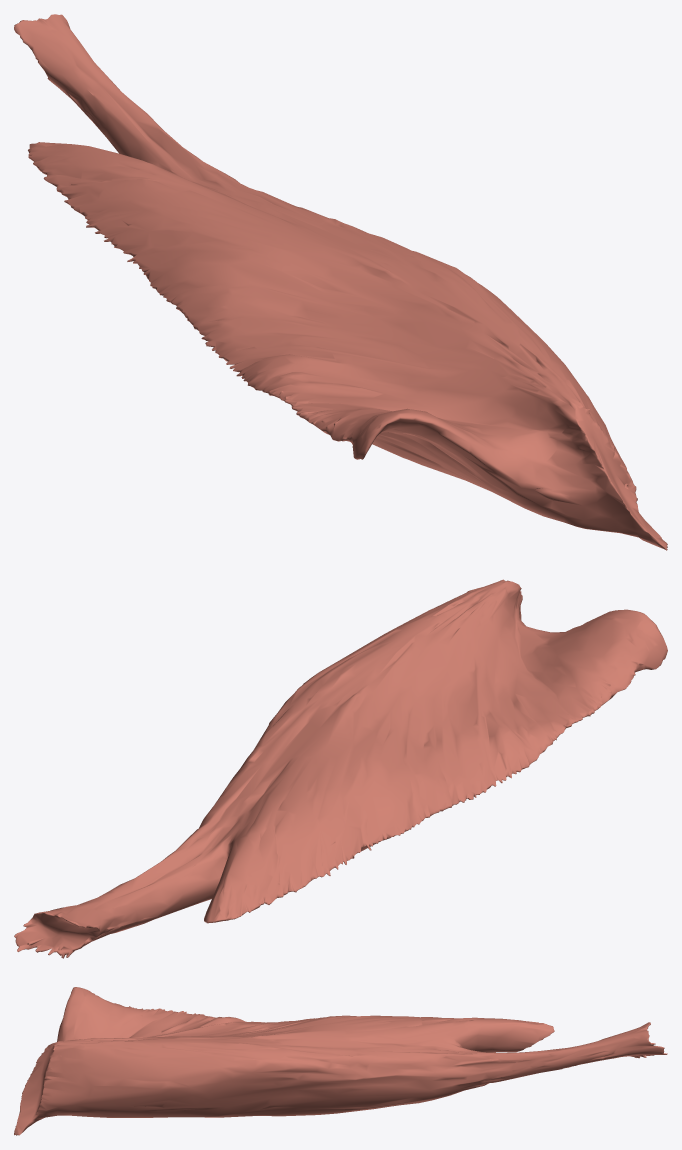
3 renders of one model, top to bottom at view 1: azimuth 30°, elevation 25°; view 2: azimuth 150°, elevation 25°; view 3: azimuth 270°, elevation 25°, orthographic. The views are drawn at different scales.
Visible parts, largest first — view 1: 右侧大收肌; view 2: 右侧大收肌; view 3: 右侧大收肌.
Boxes of the visible parts, bbox=[...] form: 右侧大收肌: bbox=[14, 14, 667, 550]; 右侧大收肌: bbox=[14, 579, 667, 958]; 右侧大收肌: bbox=[14, 987, 667, 1135].
Bounding box in the file's own units: 0.1438 × 0.0772 × 0.5271.
